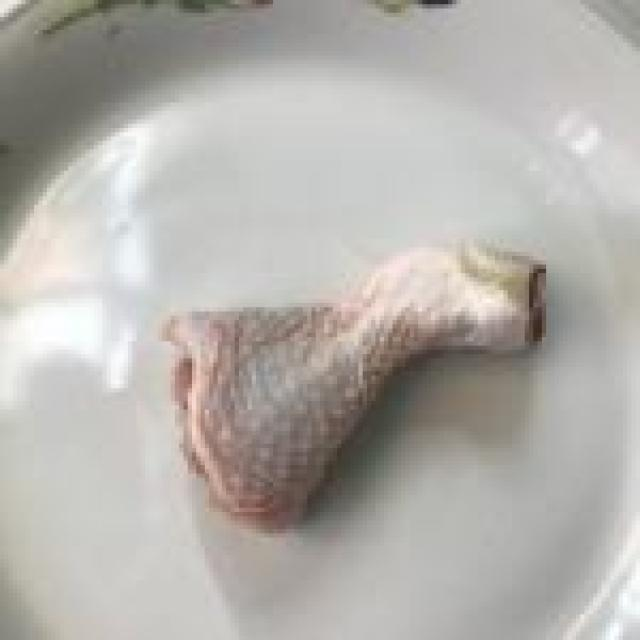leg: (138, 228, 556, 528)
